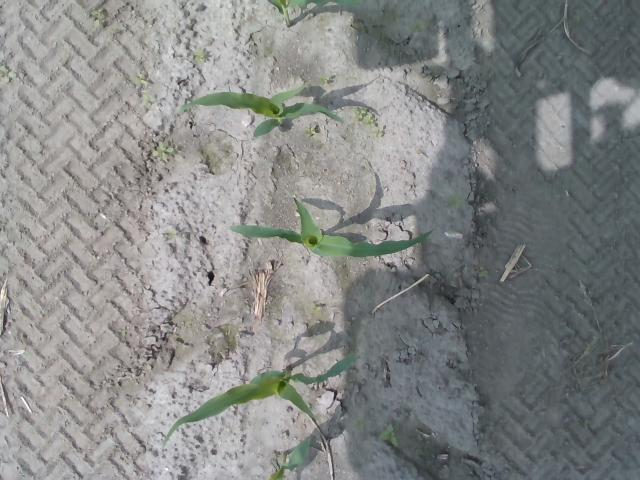Maize: (162, 354, 357, 442), (228, 196, 434, 258), (174, 87, 340, 141), (264, 0, 361, 28), (267, 433, 313, 480)
Weeds: (376, 424, 401, 449), (150, 140, 175, 162), (354, 106, 375, 124), (90, 7, 106, 28), (130, 72, 150, 86), (0, 66, 17, 82), (449, 194, 464, 208), (193, 49, 206, 64), (371, 126, 385, 137), (478, 268, 490, 280), (306, 126, 318, 137)
